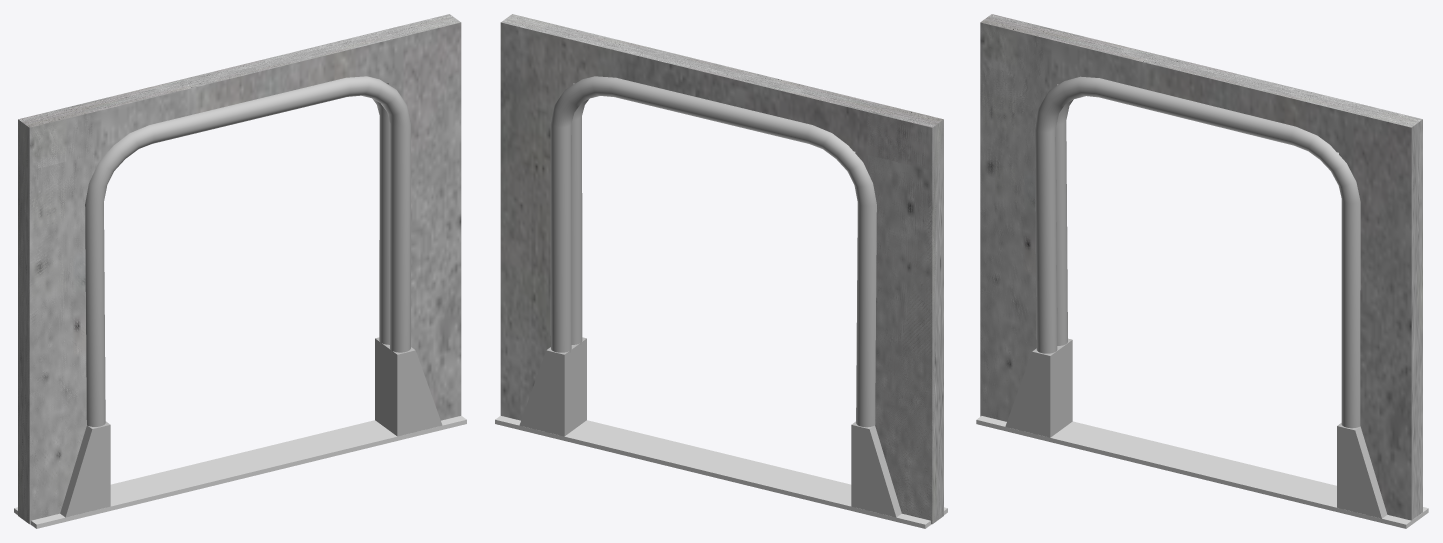
The model's file is marcodoor.fbx.
3 views of the same model, side by side, from view 1: azimuth 30°, elevation 25°; view 2: azimuth 150°, elevation 25°; view 3: azimuth 330°, elevation 25° (orthographic).
Visible parts, largest first — view 1: Cubo, Cilindro, Cubo.003, Cubo.002, Cubo.001, Cilindro.001; view 2: Cubo, Cilindro.001, Cubo.003, Cubo.002, Cubo.001, Cilindro; view 3: Cubo, Cilindro, Cubo.003, Cubo.001, Cubo.002, Cilindro.001.
Boxes of the visible parts, x1,y1,x2,y2 form: Cubo: (18,14,461,524); Cilindro: (85,76,411,426); Cubo.003: (14,415,466,528); Cubo.002: (375,337,442,436); Cubo.001: (60,421,110,517); Cilindro.001: (373,99,390,344); Cubo: (500,14,943,524); Cilindro.001: (550,76,876,427); Cubo.003: (495,415,947,528); Cubo.002: (519,337,586,436); Cubo.001: (851,421,901,517); Cilindro: (571,99,588,344); Cubo: (980,14,1422,520); Cilindro: (1035,76,1360,428); Cubo.003: (976,416,1428,528); Cubo.001: (1005,338,1072,437); Cubo.002: (1337,423,1387,518); Cilindro.001: (1055,100,1072,345).
Size of the model in its own units: 503 by 442 by 45.39.
